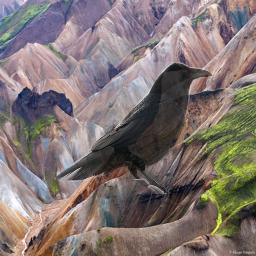Crow: (54, 62, 213, 194)
